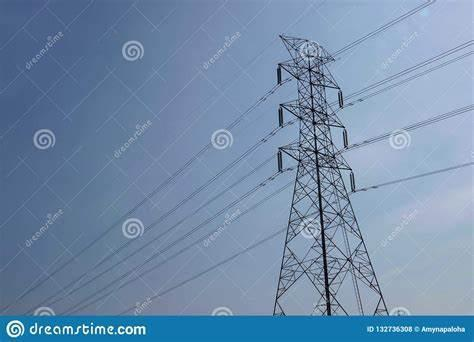power_tower: (267, 32, 395, 317)
